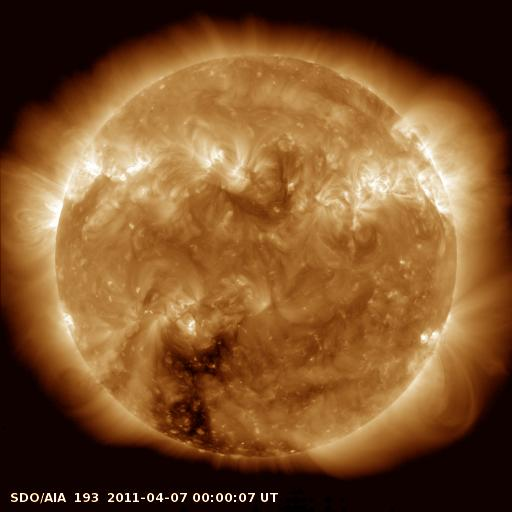coronal_hole: (144, 323, 247, 448)
